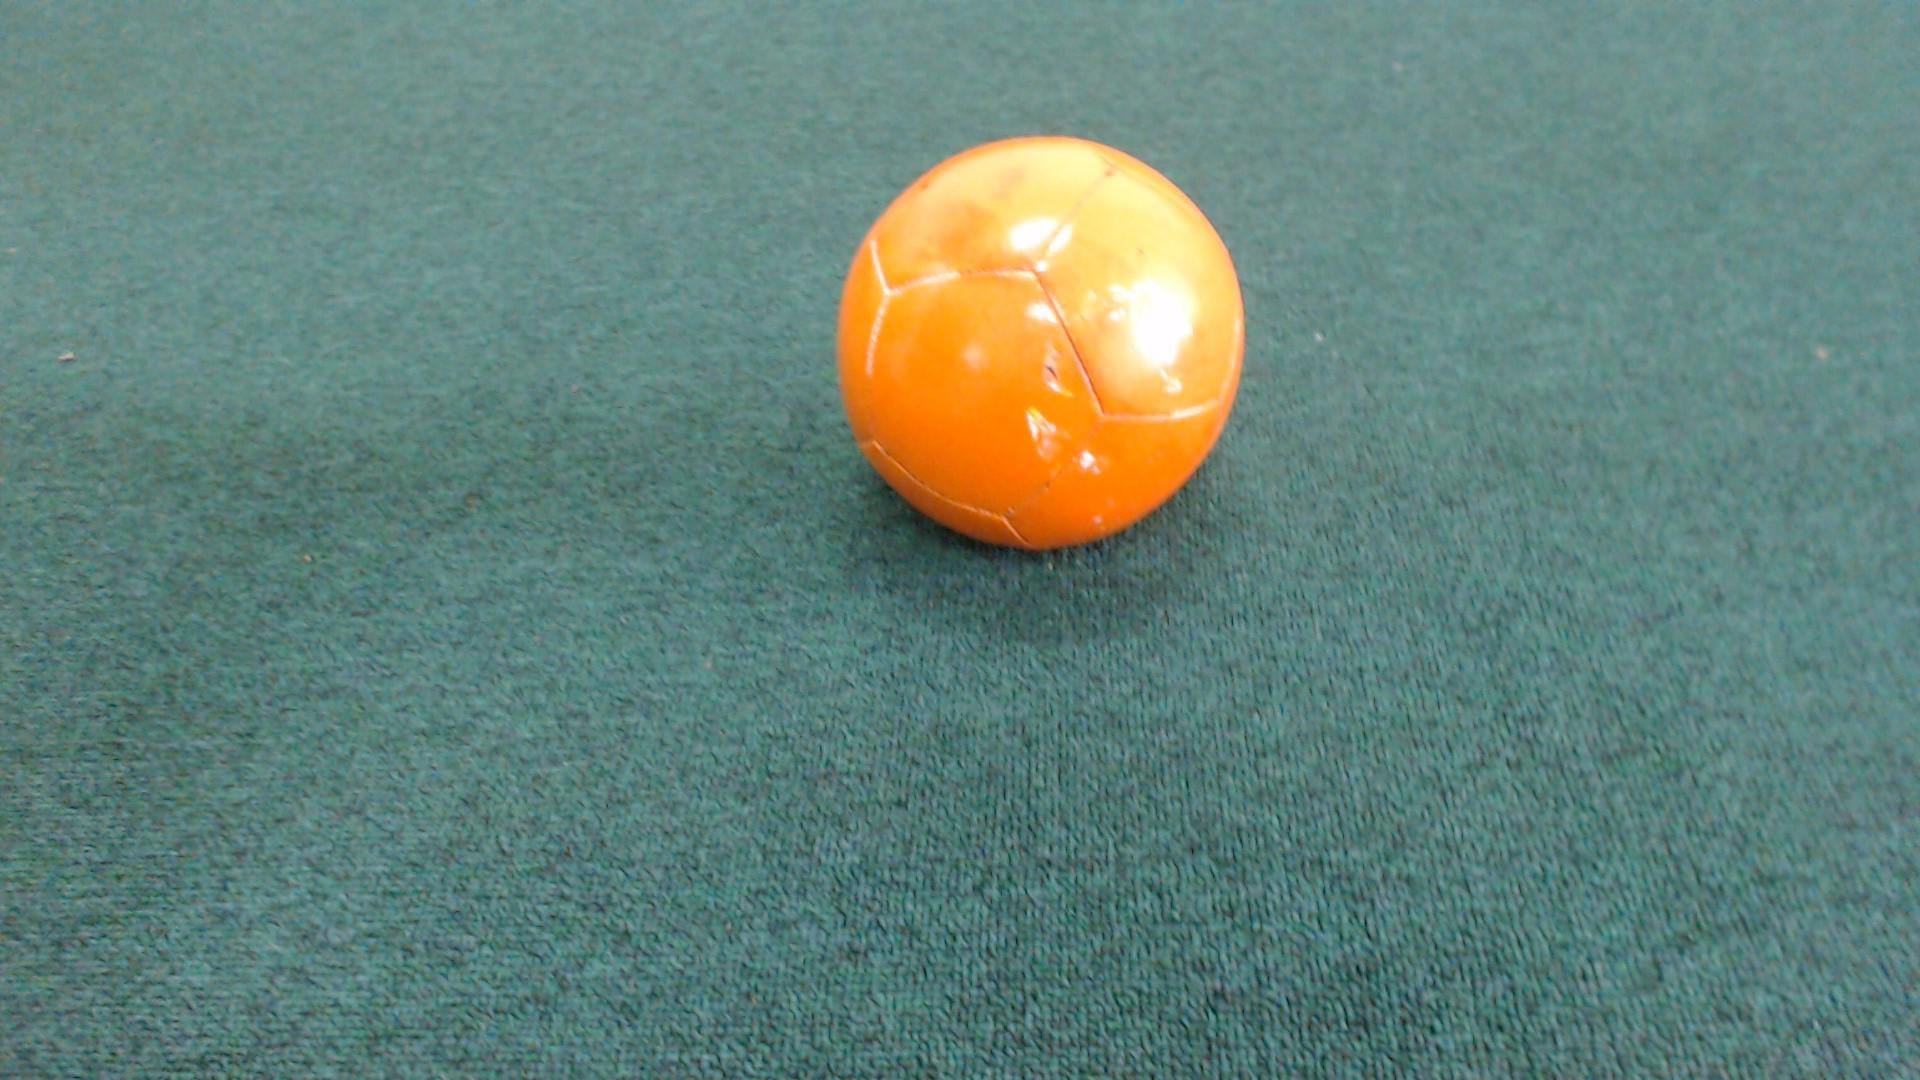bola: (815, 136, 1251, 567)
